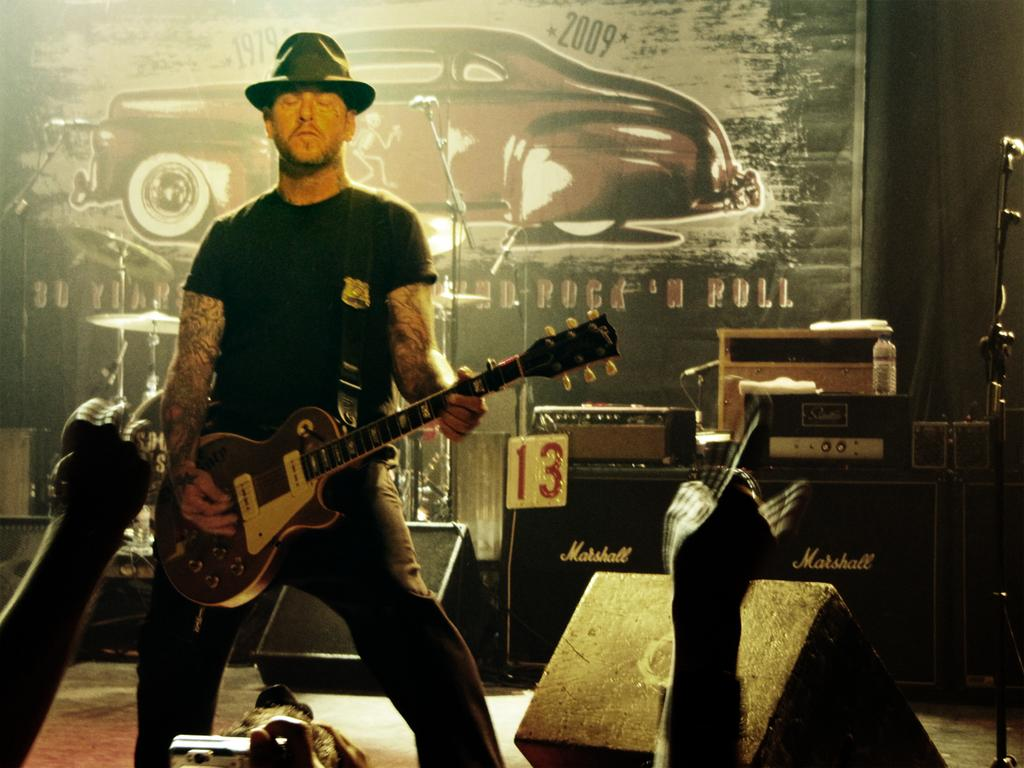Hat: (242, 29, 378, 113)
